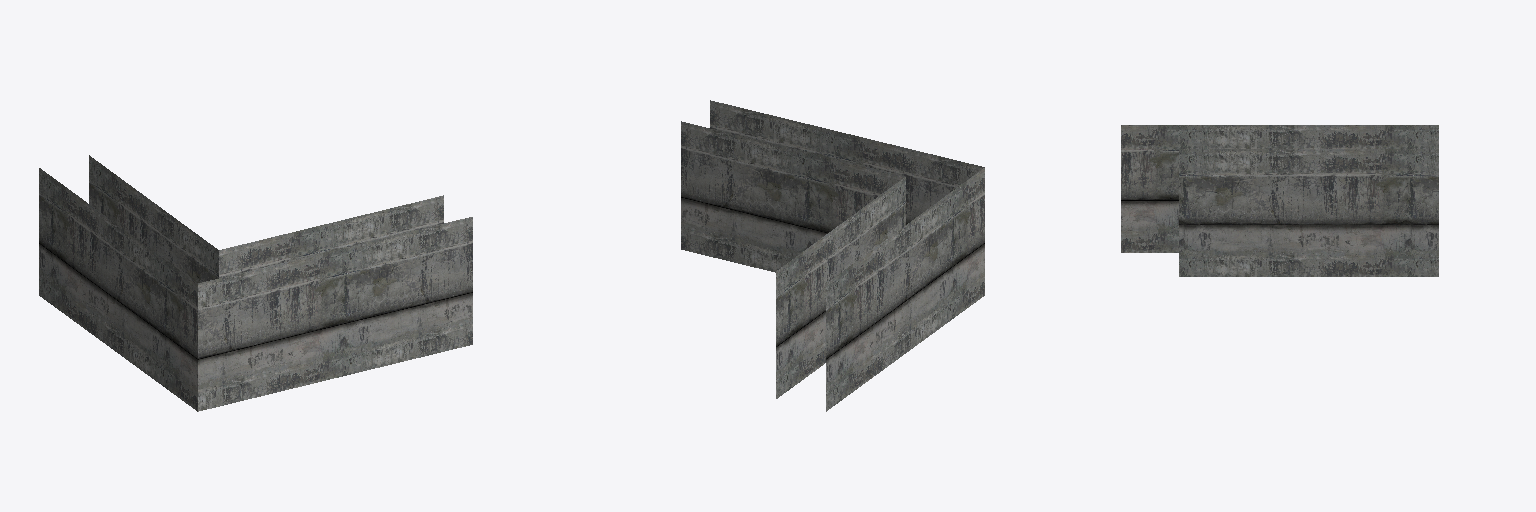
3 views of the same model, side by side, from view 1: azimuth 30°, elevation 25°; view 2: azimuth 150°, elevation 25°; view 3: azimuth 270°, elevation 25° (orthographic).
Parts seen in each view (by area): view 1: Room; view 2: Room; view 3: Room.
Part boxes in pixels (x1,y1,x2,y2): Room: (39,155,472,411); Room: (681,100,984,411); Room: (1121,125,1438,276).
Size of the model in its own units: 5.5 by 2.45 by 5.5.
1 materials, 1 textured.